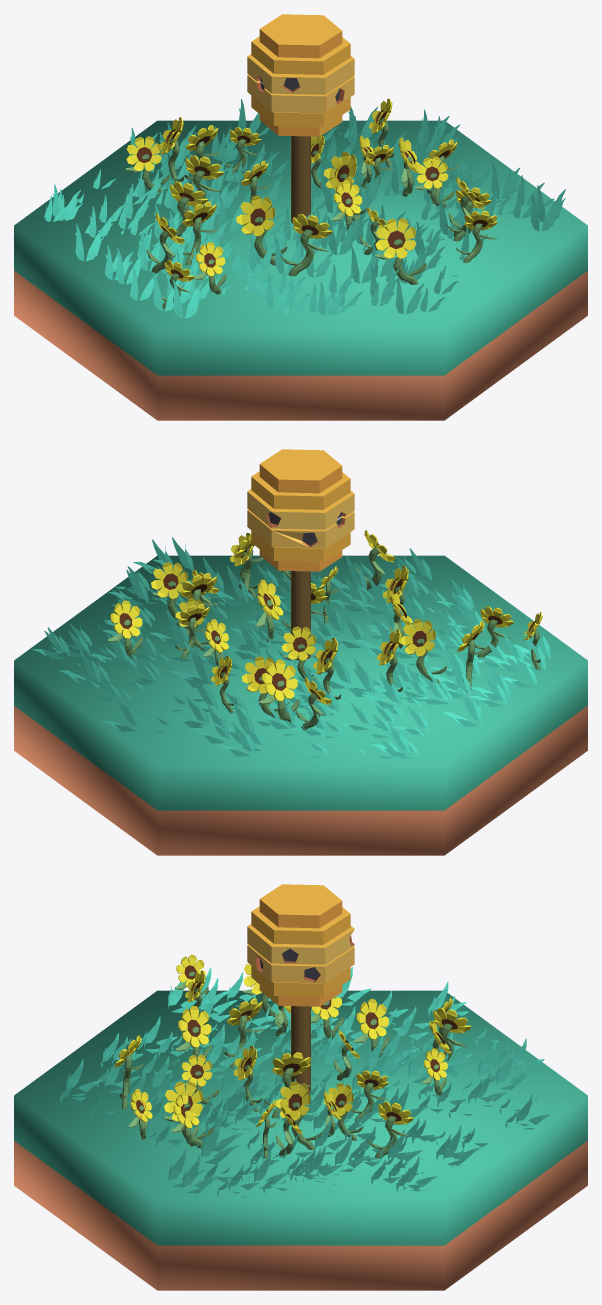
Rendered from hexagonal_colmeia_normal.glb.
3 views of the same model, one above another, from view 1: azimuth 30°, elevation 25°; view 2: azimuth 150°, elevation 25°; view 3: azimuth 270°, elevation 25° (orthographic).
Parts seen in each view (by area): view 1: grass.001, grass, grass.002, Cylinder.001, Cylinder; view 2: grass.001, grass, grass.002, Cylinder.001, Cylinder; view 3: grass.001, grass, grass.002, Cylinder.001, Cylinder.
Boxes of the visible parts, box(x1,y1,x2,y2) form: grass.001: box(14, 120, 587, 420); grass: box(44, 99, 565, 318); grass.002: box(125, 98, 497, 308); Cylinder.001: box(247, 14, 354, 136); Cylinder: box(291, 136, 310, 223); grass.001: box(14, 555, 587, 855); grass: box(32, 537, 550, 758); grass.002: box(108, 530, 542, 729); Cylinder.001: box(247, 449, 354, 571); Cylinder: box(291, 571, 310, 660); grass.001: box(14, 990, 587, 1290); grass: box(60, 967, 549, 1198); grass.002: box(114, 954, 471, 1158); Cylinder.001: box(247, 884, 354, 1006); Cylinder: box(291, 1006, 310, 1094).
Size of the model in its own units: 1 by 0.6342 by 1.15.
Materials: 9 (3 with a texture image).
